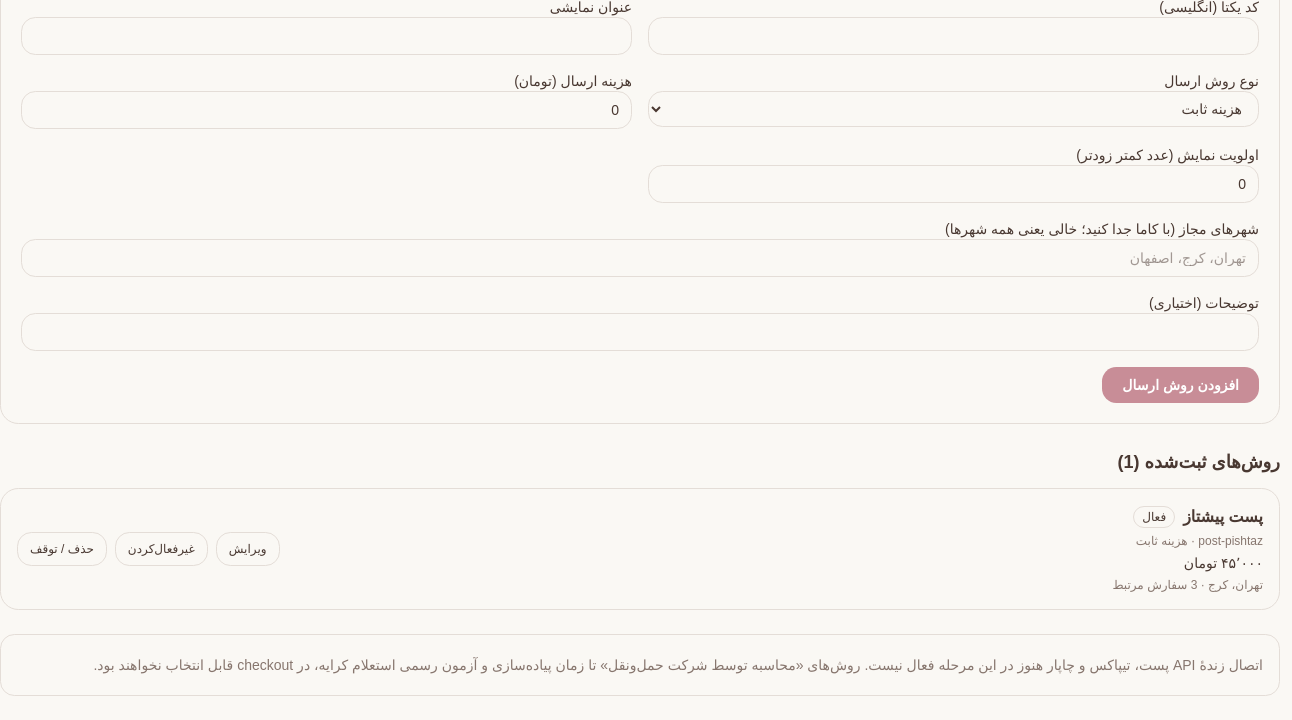
Test: admin shipping page › sends a PATCH when editing an existing method
Later steps or results of the test are not shown.
(page scrolled)
What coordinates should you click on to do the following:
click the button "ویرایش"
I would click on:
 (248, 549)
Its box is [216,532,280,566].
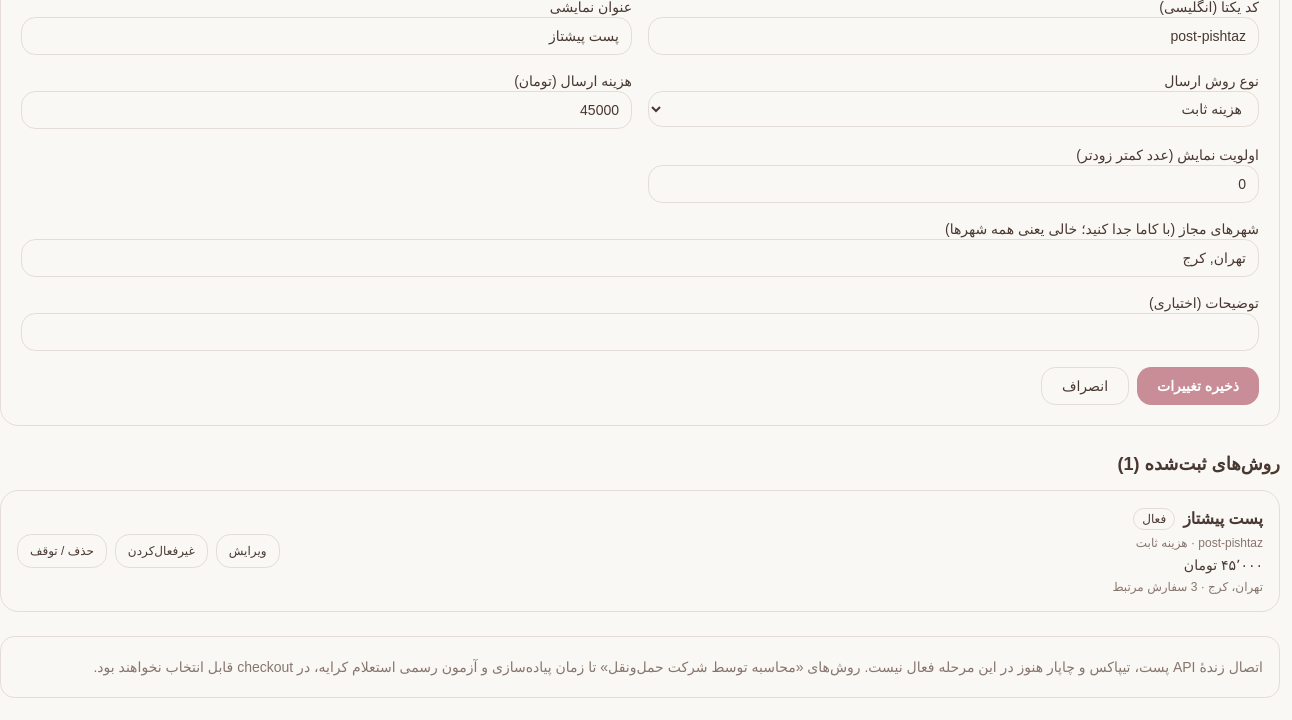
Result: the field labelled "عنوان نمایشی" holds "پست پیشتاز" at [21,17,632,55]
